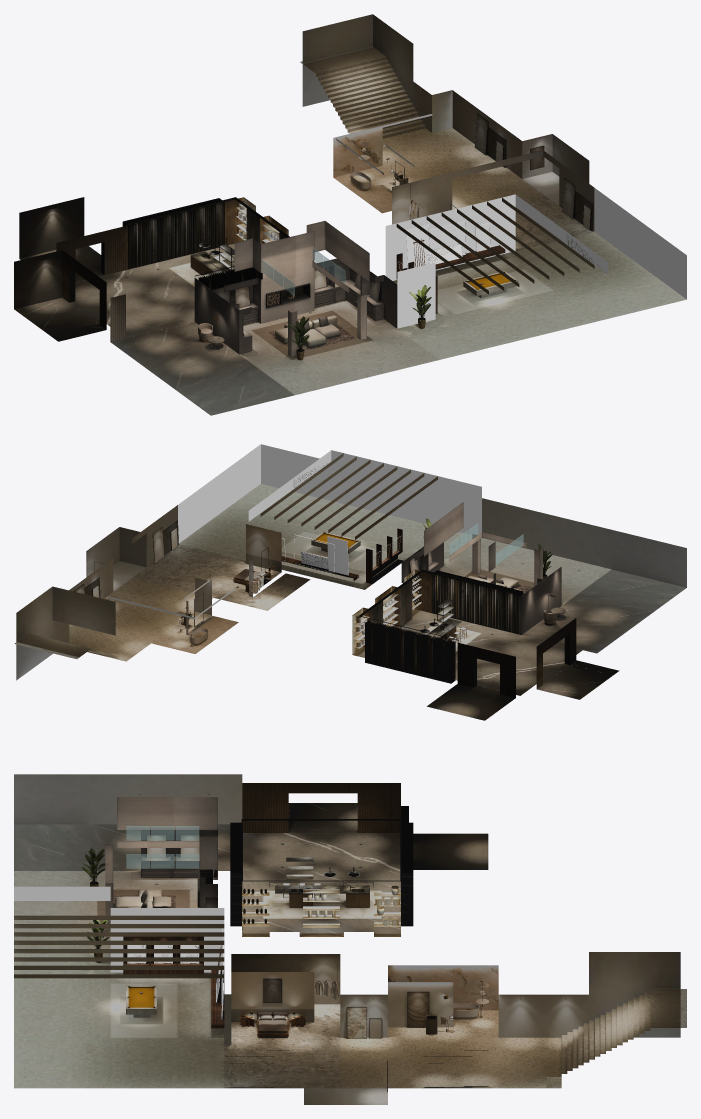
The model's file is ff_pov-mobile.glb.
3 renders of one model, top to bottom at view 1: azimuth 30°, elevation 25°; view 2: azimuth 150°, elevation 25°; view 3: azimuth 270°, elevation 25°, orthographic. The views are drawn at different scales.
Parts seen in each view (by area): view 1: ff_split-003_shelf-003, ff_split-002_wall-002, ff_split-004_wall-001, ff_split-002_wall-001, ff_split-003_wall-002001, ff_split-001_wall-001, ff_split-004_wall-002, ff_split-004_table-001, ff_split-001_floor-001, ff_split-001_table-001, ff_split-003_shelf-002, ff_split-002_sopha-001 (+1 smaller); view 2: ff_split-002_wall-002, ff_split-003_wall-002001, ff_split-004_table-001, ff_split-003_shelf-003, ff_split-004_wall-001, ff_split-001_table-001, ff_split-001_wall-001, ff_split-001_floor-001, ff_split-002_wall-001, ff_split-004_wall-002, ff_split-003_shelf-002, ff_split-002_sopha-001 (+2 smaller); view 3: ff_split-003_shelf-003, ff_split-004_wall-001, ff_split-004_table-001, ff_split-002_wall-002, ff_split-001_floor-001, ff_split-001_wall-001, ff_split-003_shelf-002, ff_split-002_wall-001, ff_split-004_wall-002, ff_split-003_wall-002001, ff_split-001_table-001, ff_split-002_glass-001 (+2 smaller).
Part boxes in pixels (x1,y1,x2,y2): ff_split-003_shelf-003: (393, 232, 686, 359); ff_split-002_wall-002: (110, 300, 439, 415); ff_split-004_wall-001: (302, 14, 594, 231); ff_split-002_wall-001: (194, 221, 397, 356); ff_split-003_wall-002001: (385, 188, 686, 328); ff_split-001_wall-001: (14, 197, 313, 341); ff_split-004_wall-002: (300, 47, 593, 231); ff_split-004_table-001: (334, 104, 593, 250); ff_split-001_floor-001: (14, 201, 279, 341); ff_split-001_table-001: (123, 199, 282, 289); ff_split-003_shelf-002: (396, 198, 594, 328); ff_split-002_sopha-001: (158, 268, 380, 360); ff_split-002_wall-002: (440, 498, 686, 653); ff_split-003_wall-002001: (178, 444, 481, 575); ff_split-004_table-001: (68, 533, 310, 661); ff_split-003_shelf-003: (179, 484, 472, 589); ff_split-004_wall-001: (16, 505, 281, 680); ff_split-001_table-001: (353, 572, 522, 682); ff_split-001_wall-001: (352, 569, 576, 720); ff_split-001_floor-001: (353, 572, 619, 699); ff_split-002_wall-001: (401, 502, 561, 634); ff_split-004_wall-002: (14, 520, 238, 660); ff_split-003_shelf-002: (260, 453, 437, 580); ff_split-002_sopha-001: (409, 532, 607, 597); ff_split-003_shelf-003: (14, 936, 224, 1088); ff_split-004_wall-001: (224, 952, 680, 1104); ff_split-004_table-001: (224, 963, 566, 1092); ff_split-002_wall-002: (14, 774, 242, 948); ff_split-001_floor-001: (242, 793, 400, 936); ff_split-001_wall-001: (230, 783, 488, 929); ff_split-003_shelf-002: (14, 915, 224, 1028); ff_split-002_wall-001: (105, 797, 217, 932); ff_split-004_wall-002: (225, 965, 686, 1087); ff_split-003_wall-002001: (14, 886, 224, 1019); ff_split-001_table-001: (242, 857, 400, 927); ff_split-002_glass-001: (126, 826, 199, 868).
Size of the model in its own units: 45.15 by 6.31 by 42.53.
Materials: 16 (13 with a texture image).
